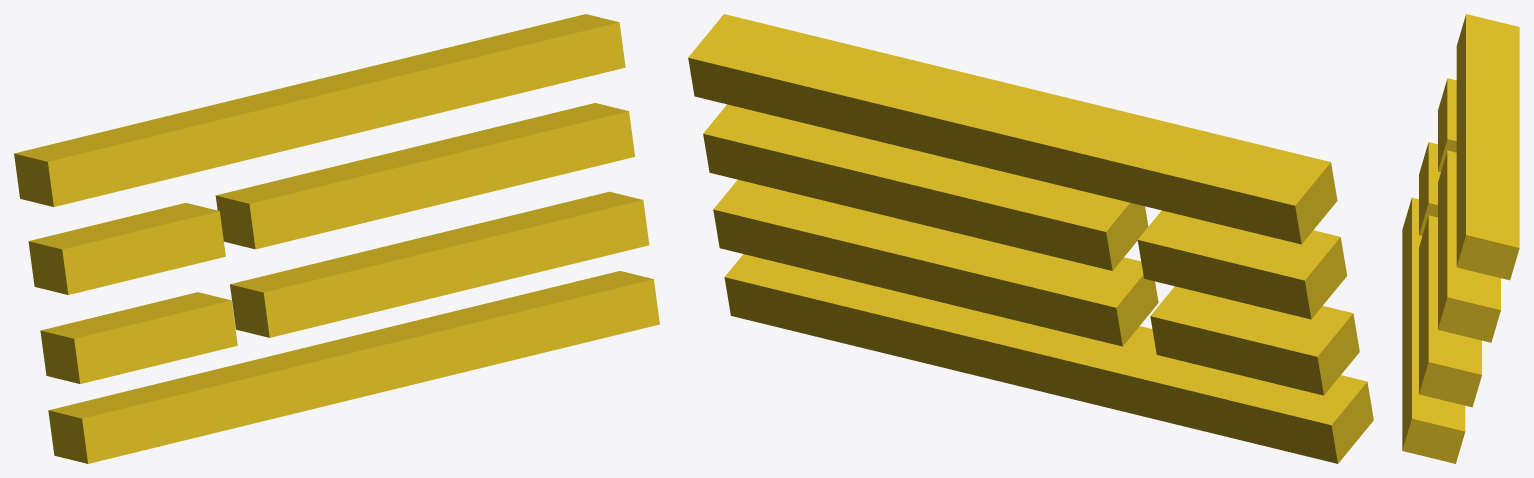
3 renders of one model, left to right at view 1: azimuth 30°, elevation 25°; view 2: azimuth 150°, elevation 25°; view 3: azimuth 270°, elevation 25°, orthographic. The views are drawn at different scales.
Visible parts, largest first — view 1: Curve.006; view 2: Curve.006; view 3: Curve.006.
Boxes of the visible parts, x1,y1,x2,y2 form: Curve.006: (14, 14, 659, 463); Curve.006: (688, 14, 1373, 463); Curve.006: (1402, 14, 1519, 463).
Bounding box in the file's own units: 0.0944 × 0.0456 × 0.0212.
